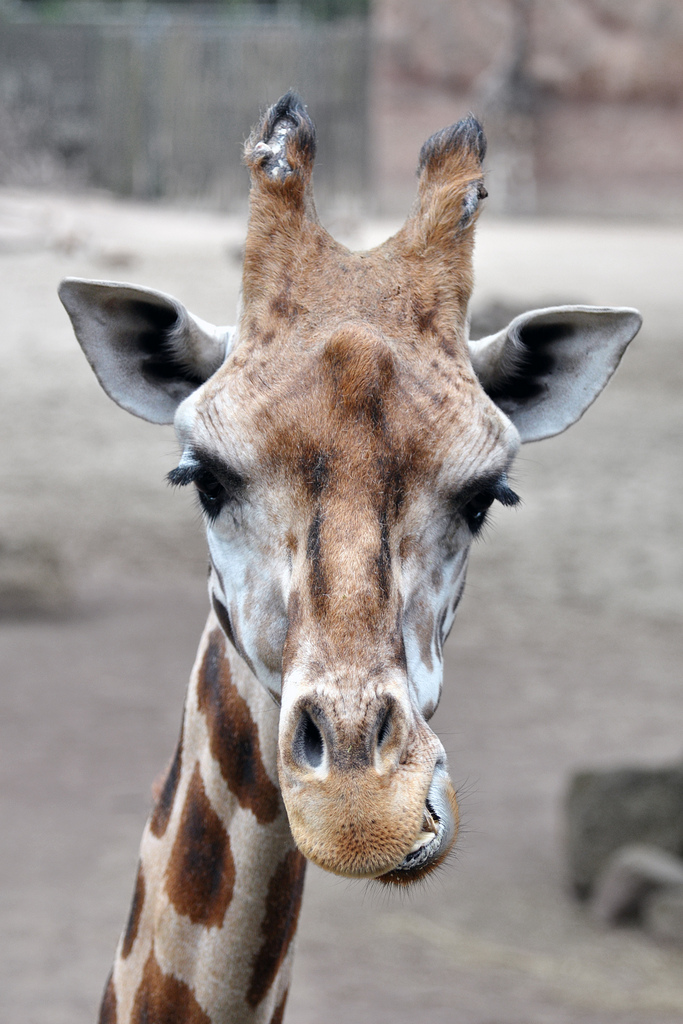giraffe: (77, 79, 646, 956)
